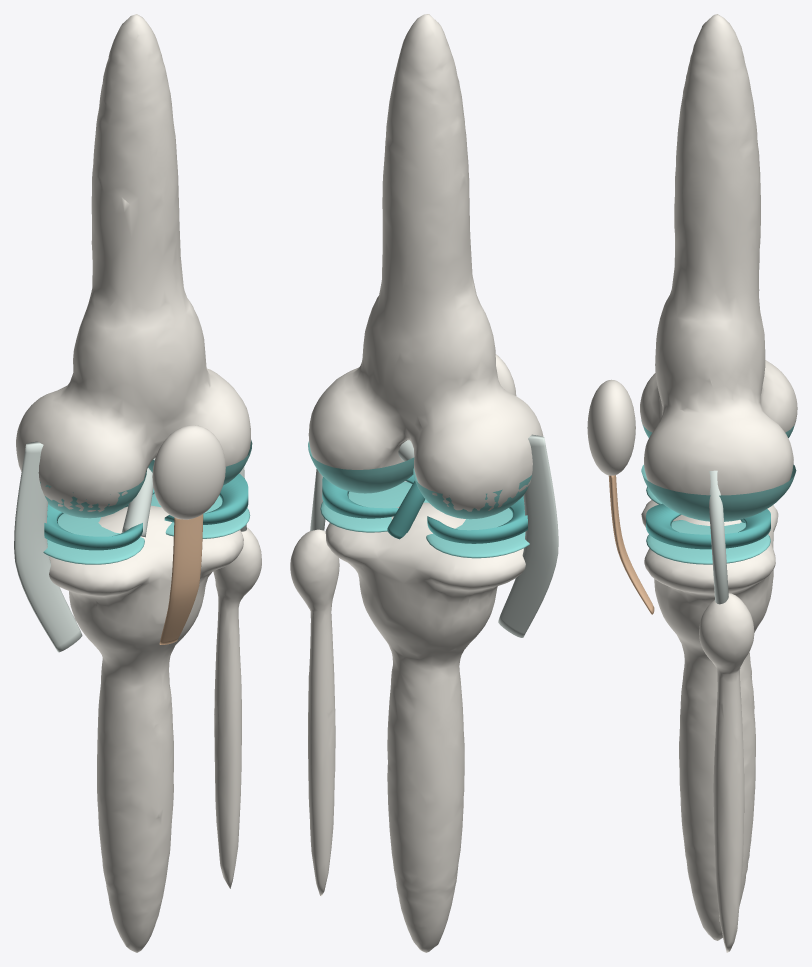
Rendered from knee-patellar.glb.
3 views of the same model, side by side, from view 1: azimuth 30°, elevation 25°; view 2: azimuth 150°, elevation 25°; view 3: azimuth 270°, elevation 25° (orthographic).
Visible parts, largest first — view 1: static #eee5d3, lower-leg #eee5d3, static #c7ddd2, static #f2a066, lower-leg #49bdb4, lower-leg #258985, static #49bdb4; view 2: static #eee5d3, lower-leg #eee5d3, static #c7ddd2, lower-leg #49bdb4, static #49bdb4, lower-leg #258985, static #258985; view 3: static #eee5d3, lower-leg #eee5d3, static #49bdb4, lower-leg #258985, lower-leg #49bdb4, static #c7ddd2, static #f2a066.
Part boxes in pixels (x1,y1,x2,y2): static #eee5d3: [16, 14, 250, 519]; lower-leg #eee5d3: [49, 505, 261, 952]; static #c7ddd2: [14, 441, 246, 652]; static #f2a066: [159, 514, 203, 644]; lower-leg #49bdb4: [43, 493, 250, 564]; lower-leg #258985: [44, 473, 248, 550]; static #49bdb4: [40, 440, 252, 518]; static #eee5d3: [308, 14, 543, 511]; lower-leg #eee5d3: [290, 502, 525, 952]; static #c7ddd2: [310, 434, 558, 637]; lower-leg #49bdb4: [320, 481, 529, 558]; static #49bdb4: [308, 441, 531, 519]; lower-leg #258985: [322, 474, 527, 543]; static #258985: [387, 481, 425, 539]; static #eee5d3: [587, 14, 797, 495]; lower-leg #eee5d3: [641, 500, 778, 952]; static #49bdb4: [641, 420, 796, 521]; lower-leg #258985: [646, 503, 770, 549]; lower-leg #49bdb4: [646, 486, 770, 564]; static #c7ddd2: [709, 470, 728, 604]; static #f2a066: [608, 475, 654, 614].
Size of the model in its own units: 0.2267 by 0.8002 by 0.1648.
